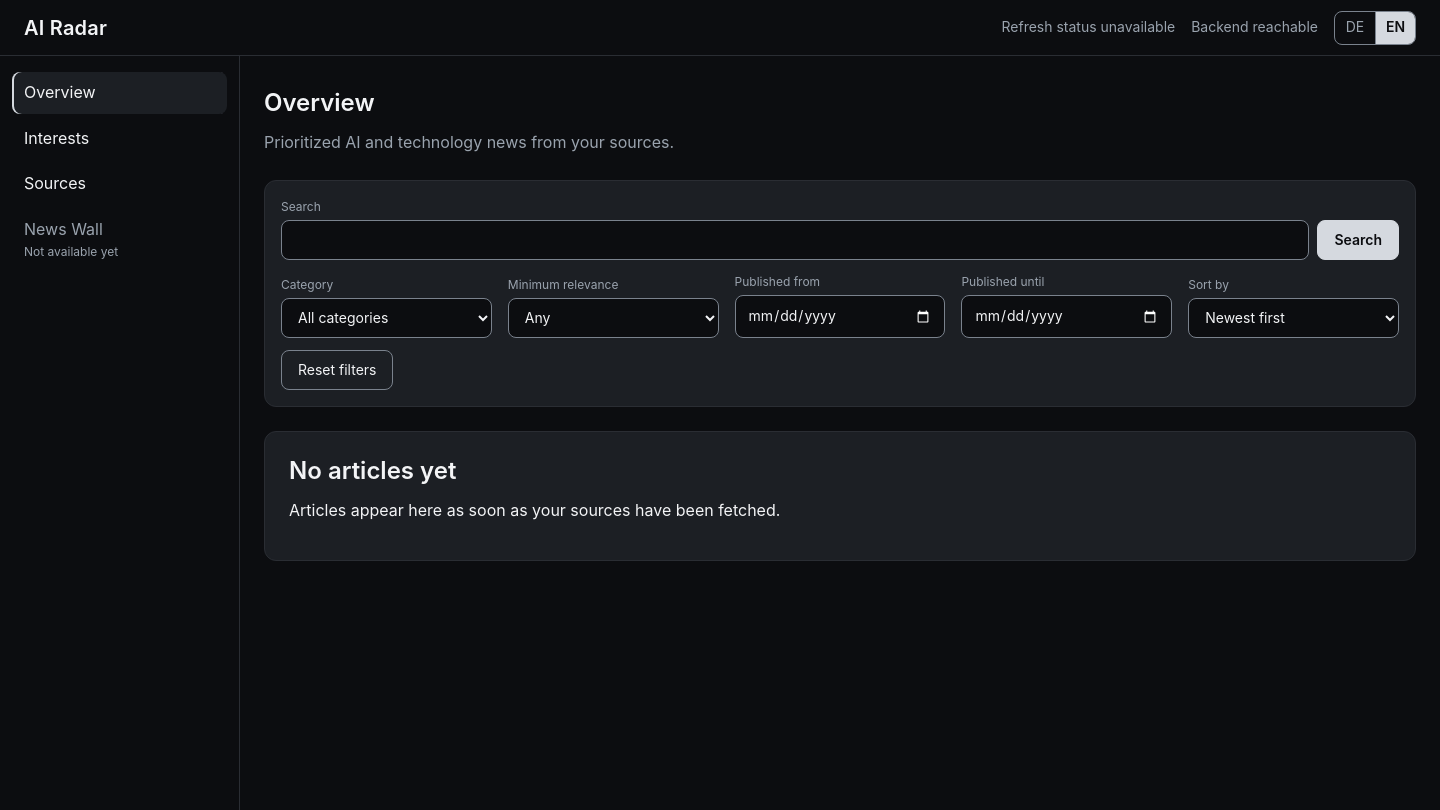
Test case: language switch › switches the UI texts, stores the choice, and sets <html lang>
Expected: the heading "Overview" is shown, top-left (264, 88), bottom-right (374, 117)
Click the button with aria-label "DE – Deutsch".
click(1355, 28)  # box top-left (1335, 12), bottom-right (1375, 44)
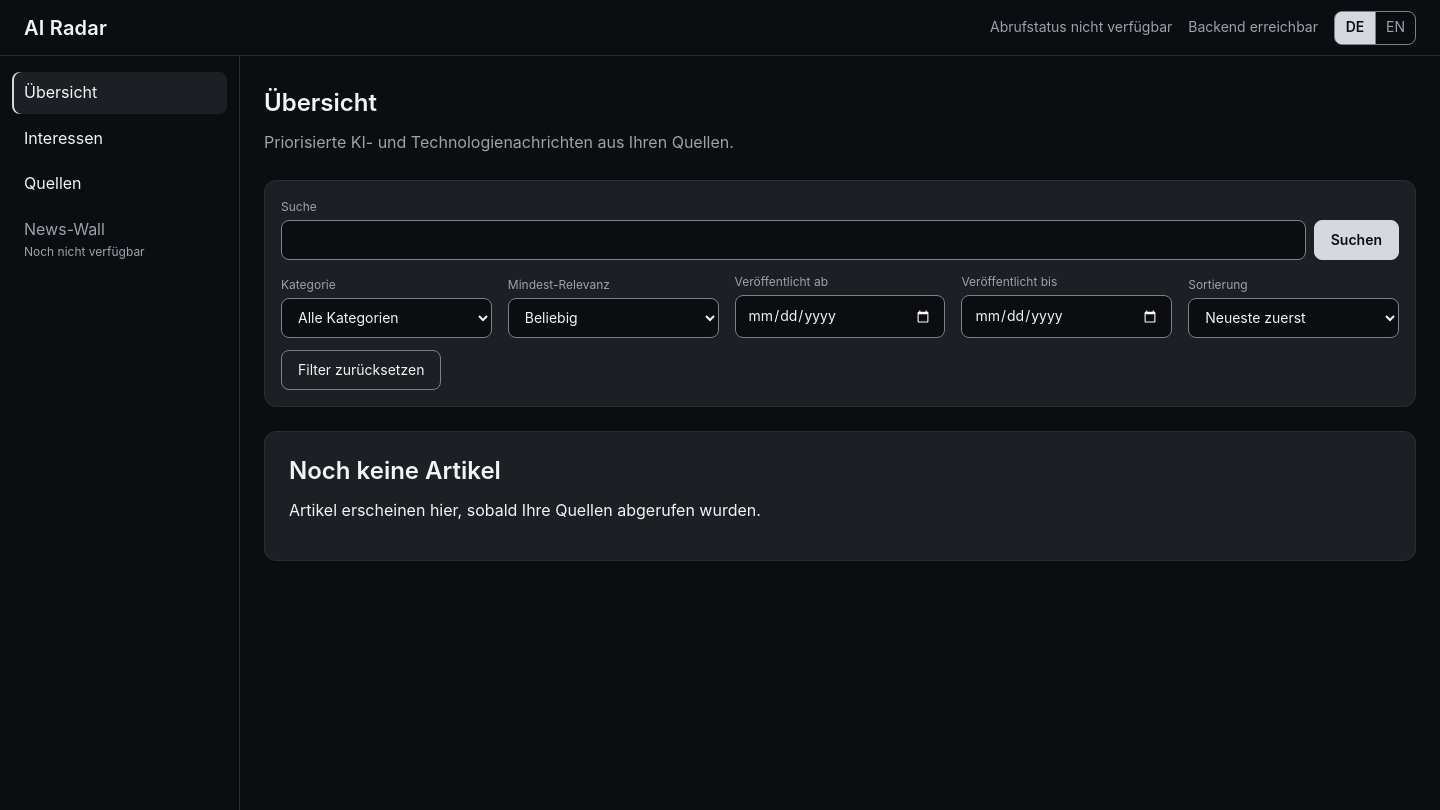
Expected: the heading "Übersicht" is shown, top-left (264, 88), bottom-right (377, 117)
Expected: the link "Übersicht" is shown, top-left (12, 72), bottom-right (227, 114)
Expected: the navigation bar named "Hauptnavigation" is shown, top-left (0, 56), bottom-right (240, 809)
